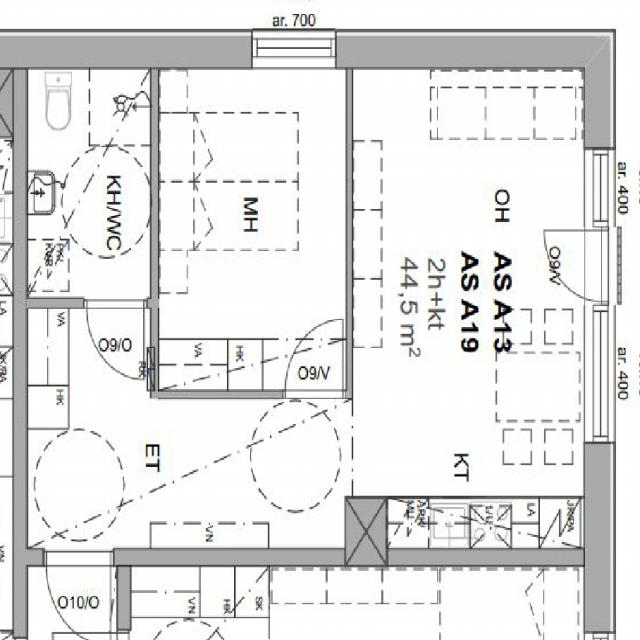door: (46, 548, 111, 640), (86, 298, 144, 380), (284, 318, 342, 398), (544, 230, 608, 302)
